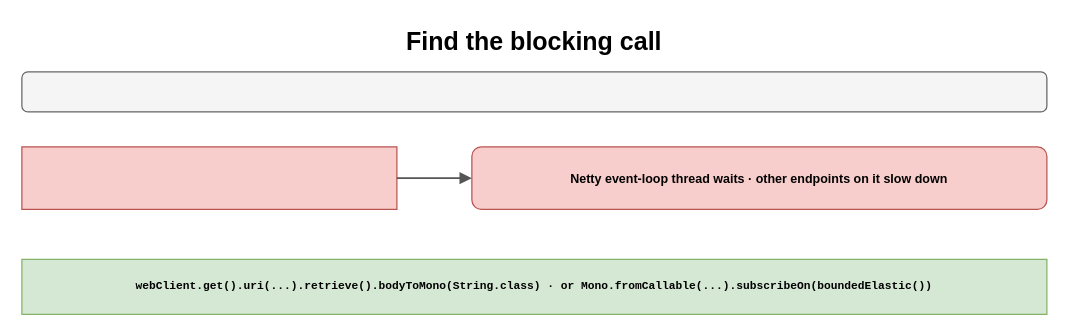
Some shapes in this 1069 by 336 pixel diagram are drawn without their labels. Each missing label, with the centre of its shape:
A blocking client on an event-loop thread stalls every connection it serves: [534,91]
restClient...body(String.class) blocks: [209,177]
